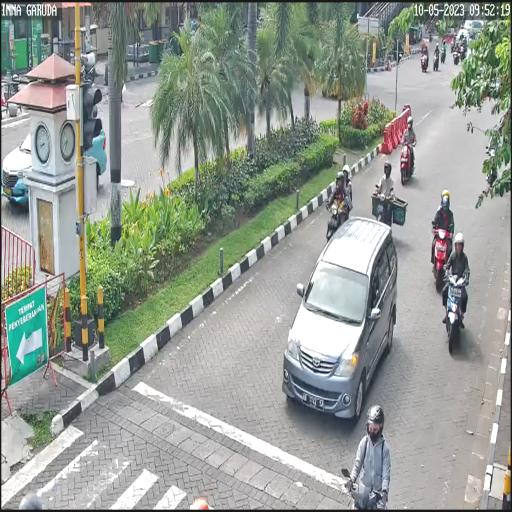mobil: (281, 215, 400, 422)
motor: (441, 257, 472, 363), (428, 218, 456, 296), (400, 127, 418, 192)
